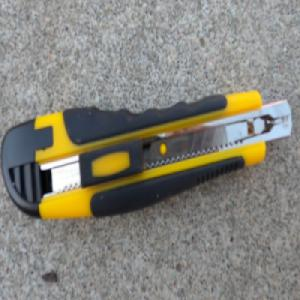Cutter: (0, 87, 294, 220)
